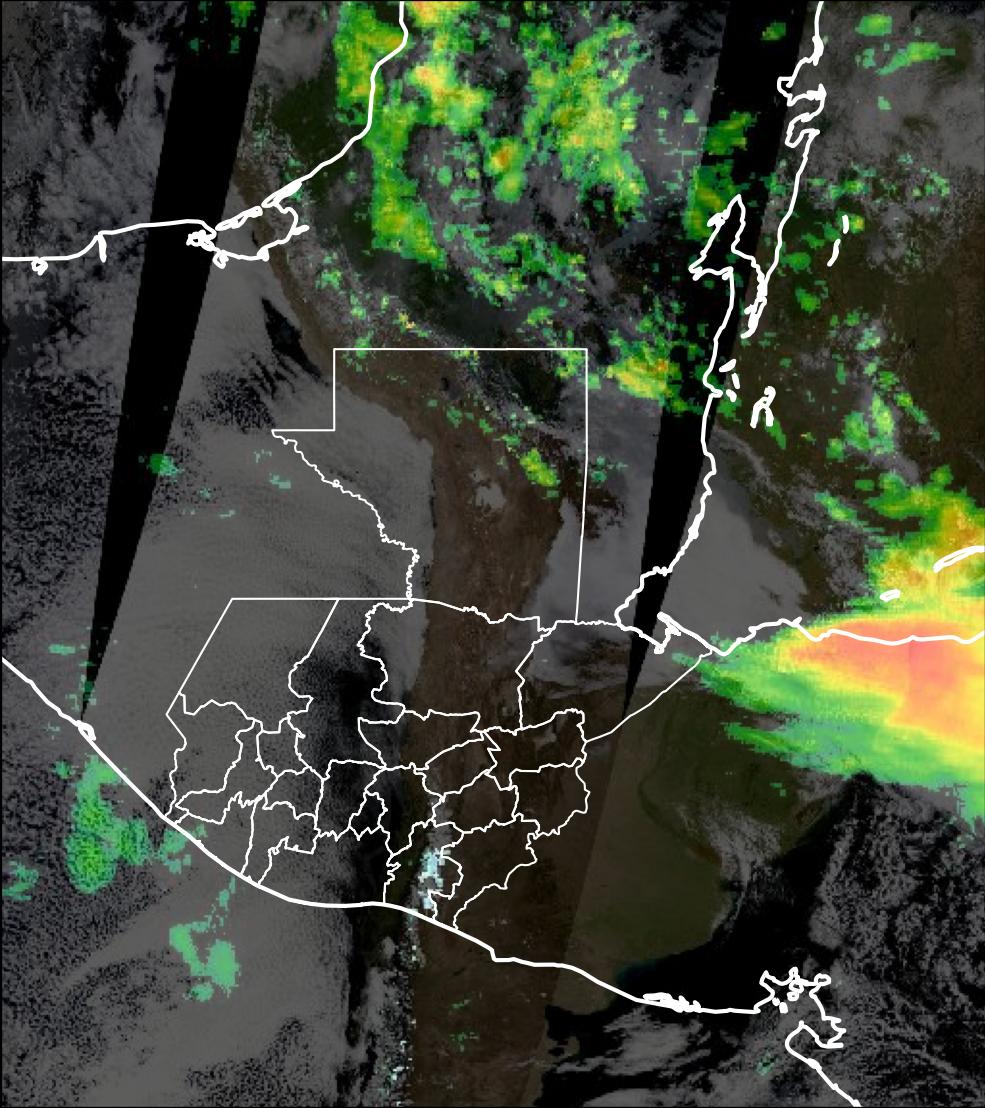precipitacion: (797, 601, 985, 782)
